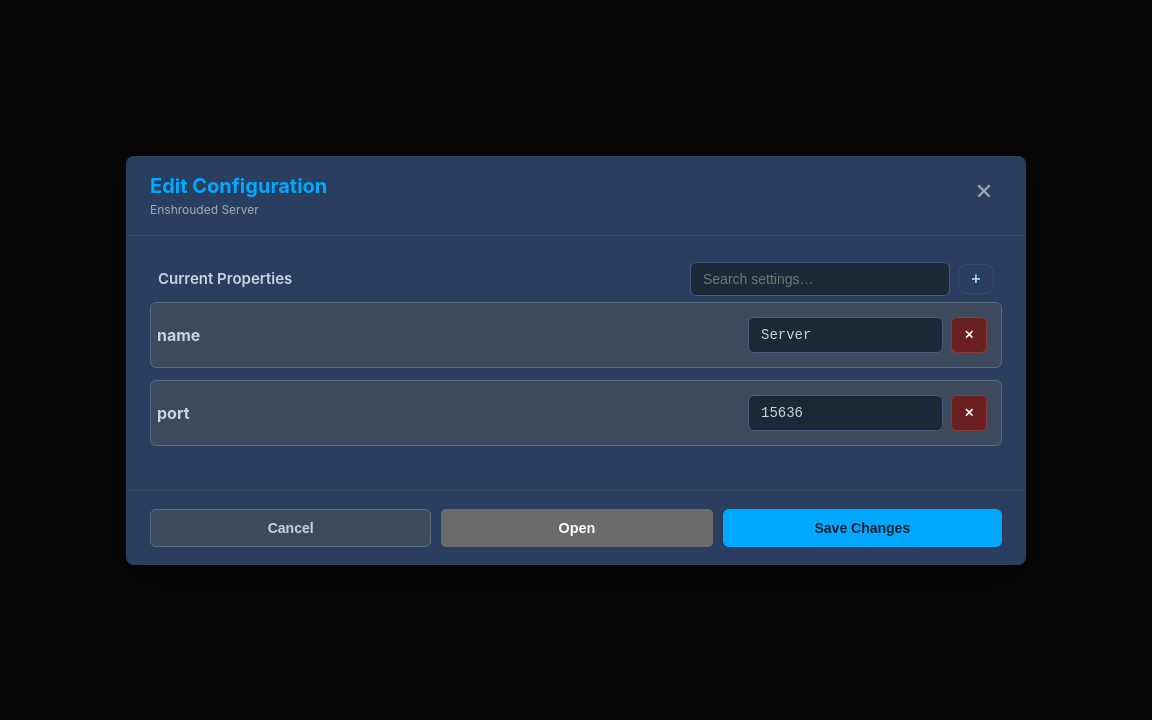
Test case: ConfigEditor › confirms before deleting a top-level property
Expected: the text "port" is shown, [157,402,190,422]
Click the button named "delete".
click(969, 412)  # box [951,394,987,430]
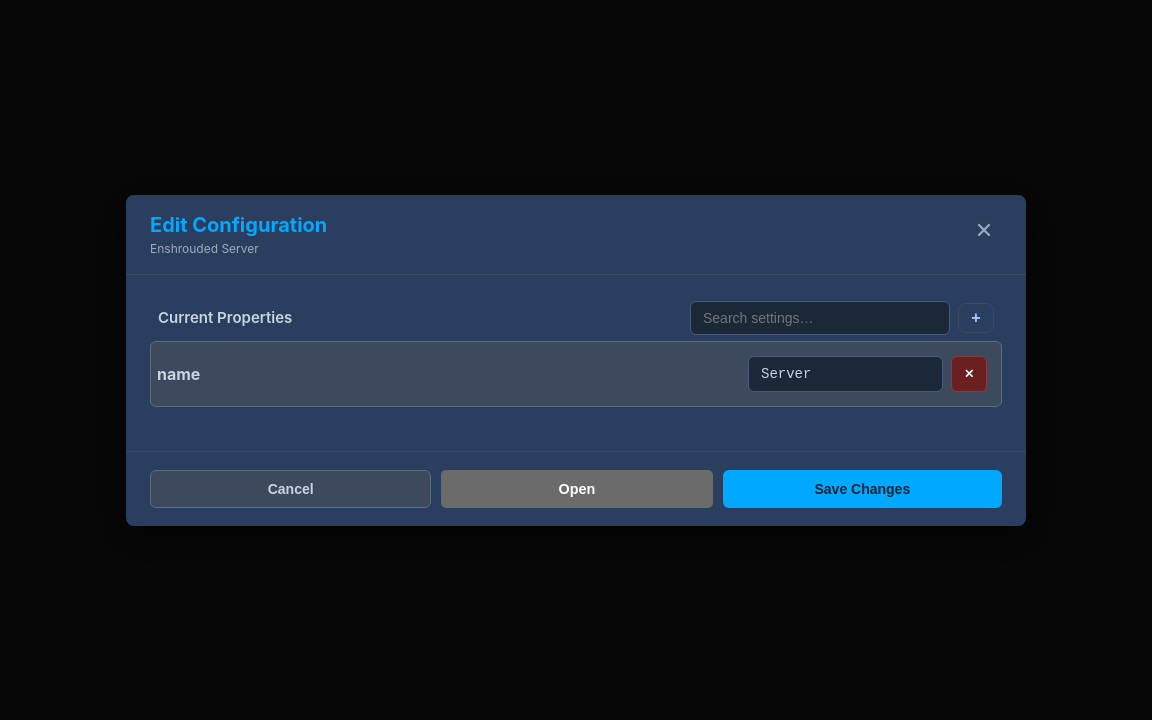
Now the text "port" is gone
